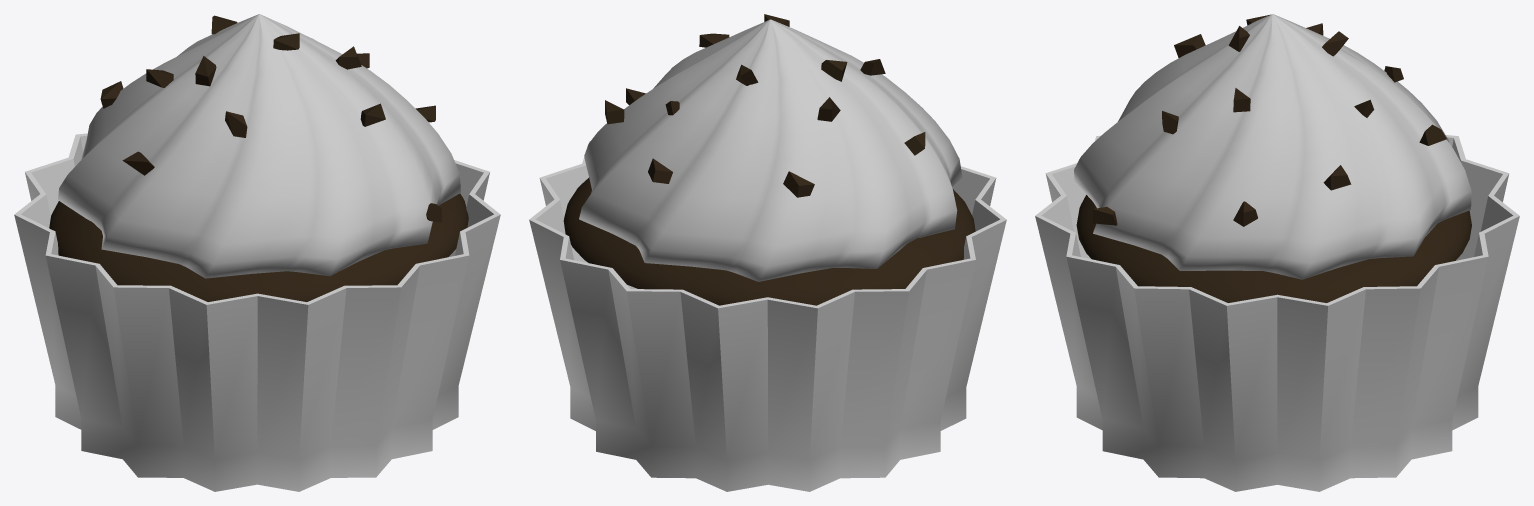
Rendered from CAKE.fbx.
3 renders of one model, left to right at view 1: azimuth 30°, elevation 25°; view 2: azimuth 150°, elevation 25°; view 3: azimuth 270°, elevation 25°, orthographic.
Parts seen in each view (by area): view 1: CUP, CAKE2, CAKE; view 2: CUP, CAKE2, CAKE, pCube14; view 3: CUP, CAKE2, CAKE.
Part boxes in pixels (x1,y1,x2,y2): CUP: (14,133,500,491); CAKE2: (58,14,460,278); CAKE: (49,193,468,301); CUP: (529,141,1006,491); CAKE2: (579,19,962,281); CAKE: (563,177,975,305); pCube14: (783,171,814,197); CUP: (1035,135,1519,491); CAKE2: (1074,14,1471,279); CAKE: (1076,195,1471,302).
Size of the model in its own units: 11.46 by 10.34 by 11.52.
